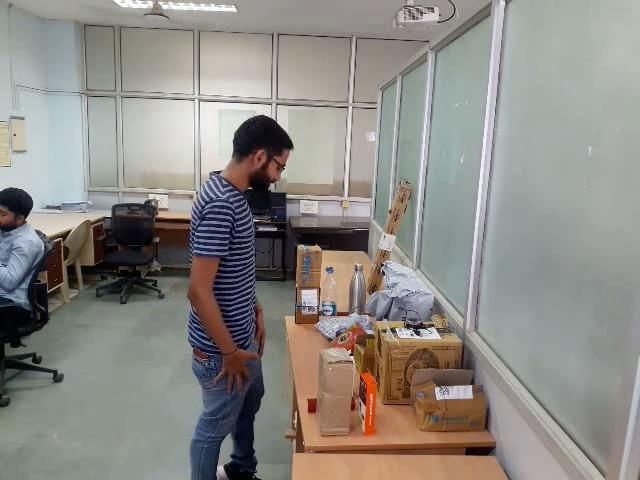Normal: (0, 2, 622, 480)
